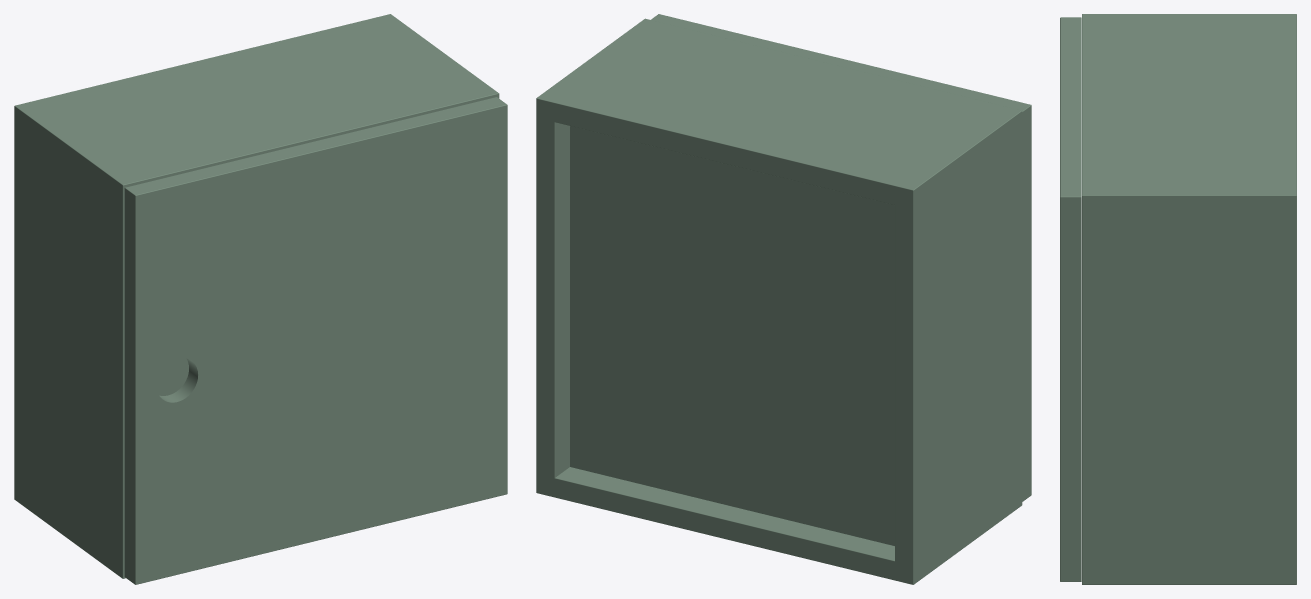
The model's file is MODH_1X1_D_B_IZQ_VA.glb.
The picture shows the model from 3 angles, left to right: view 1: azimuth 30°, elevation 25°; view 2: azimuth 150°, elevation 25°; view 3: azimuth 270°, elevation 25°; orthographic projection.
Bounding box in the file's own units: 360 × 360 × 198.
